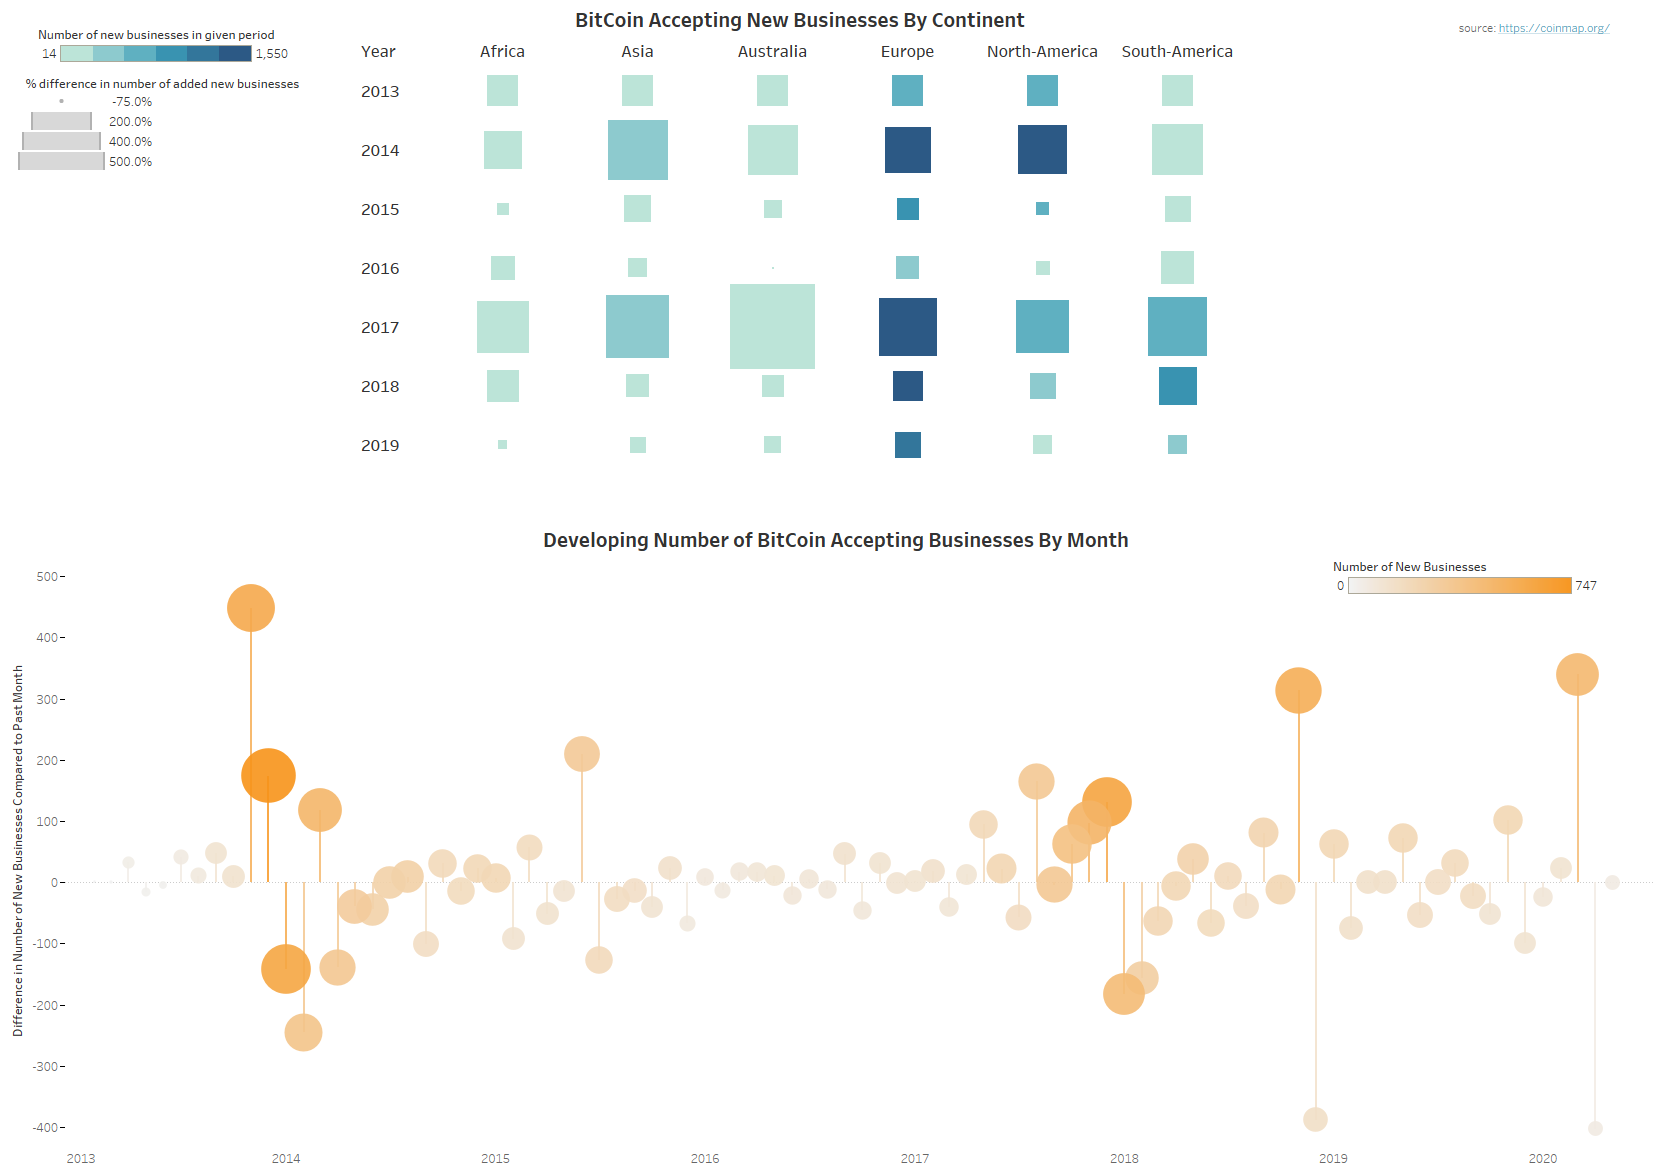

Layout of this report page (visuals, bound fields, positions):
{"tool":"tableau","page":{"name":"Business Growth","canvas":[1654,1169],"ordinal":1},"visuals":[{"type":"text","box":[1456,13,171,30]},{"type":"legend","title":"Growth by Continent","param":"[federated.0qyqyzj0qf1n4i1dxg0tm0yroo5i].[sum:Businesses:qk]","box":[38,22,255,60]},{"type":"legend","title":"Growth by Continent","param":"[federated.0qyqyzj0qf1n4i1dxg0tm0yroo5i].[pcdf:sum:Businesses:qk]","box":[15,73,293,148]},{"type":"legend","title":"lollipop of businesses","param":"[federated.0rg4kuo0qrrmle1eso1do0pyr2xw].[ctd:name:qk]","box":[1333,554,269,58]}]}

Visuals, with their boxes in screenshot pixels (x1, y1, x2, y2), scaled from the page's 1654x1169 canvas onto the 1654x1169 screenshot:
text: region(1456, 13, 1627, 43)
"Growth by Continent" legend: region(38, 22, 293, 82)
"Growth by Continent" legend: region(15, 73, 308, 221)
"lollipop of businesses" legend: region(1333, 554, 1602, 612)
